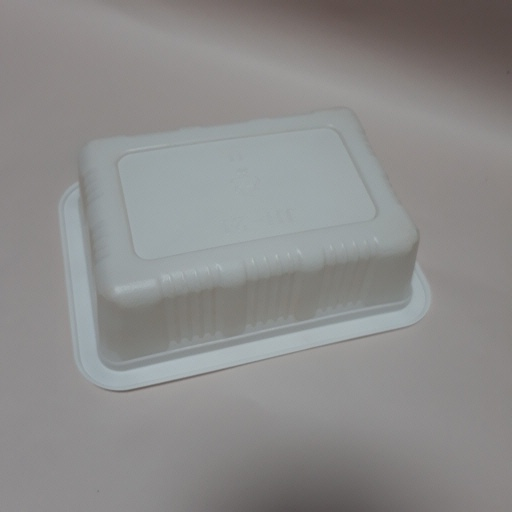Plastic_4: (56, 106, 433, 388)
